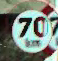Speed limit: (6, 4, 50, 55)
